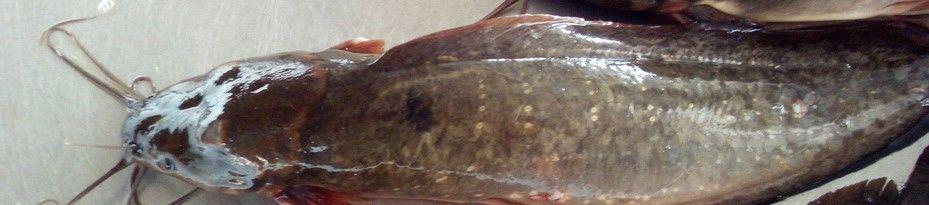Catfish: (42, 0, 929, 205)
